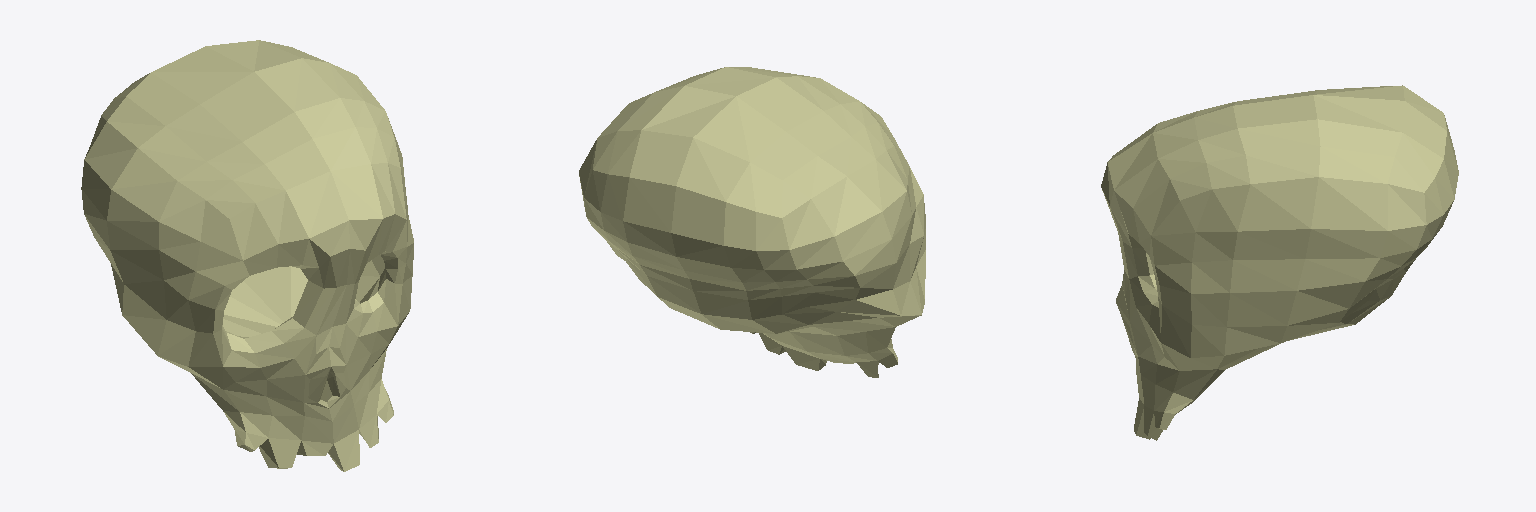
File: skull2.obj
The picture shows the model from 3 angles: view 1: azimuth 30°, elevation 25°; view 2: azimuth 150°, elevation 25°; view 3: azimuth 270°, elevation 25°; orthographic projection.
Parts seen in each view (by area): view 1: skull2; view 2: skull2; view 3: skull2.
Boxes of the visible parts, x1,y1,x2,y2 form: skull2: [81, 40, 413, 471]; skull2: [579, 67, 925, 377]; skull2: [1101, 85, 1458, 440].
Bounding box in the file's own units: 1.75 × 2.06 × 1.98.